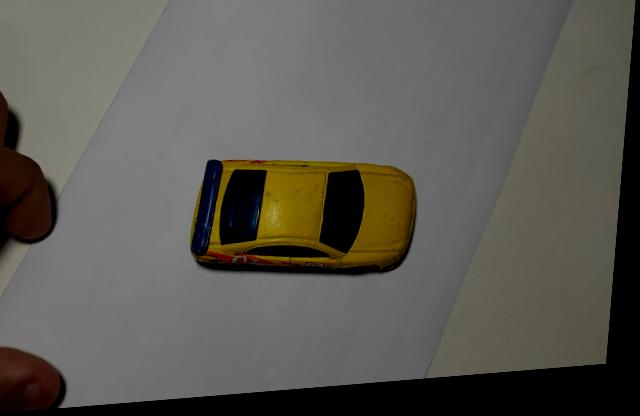02_OZSOME: (194, 164, 421, 281)
